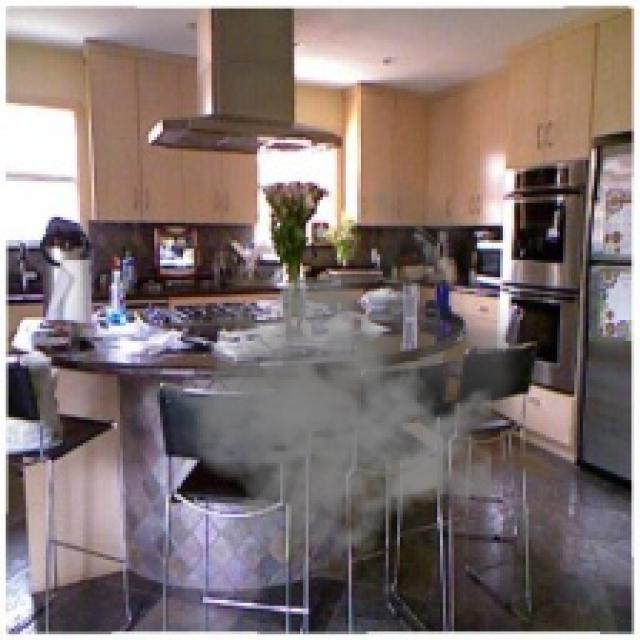smoke: (169, 171, 537, 563)
